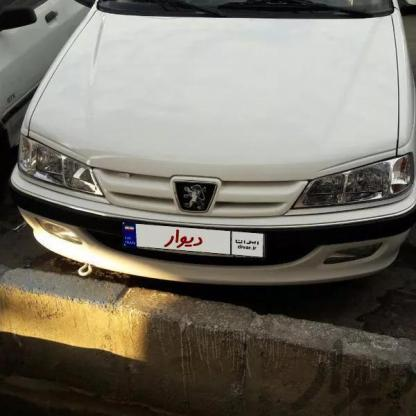Car: (0, 0, 416, 309), (0, 1, 91, 162)
